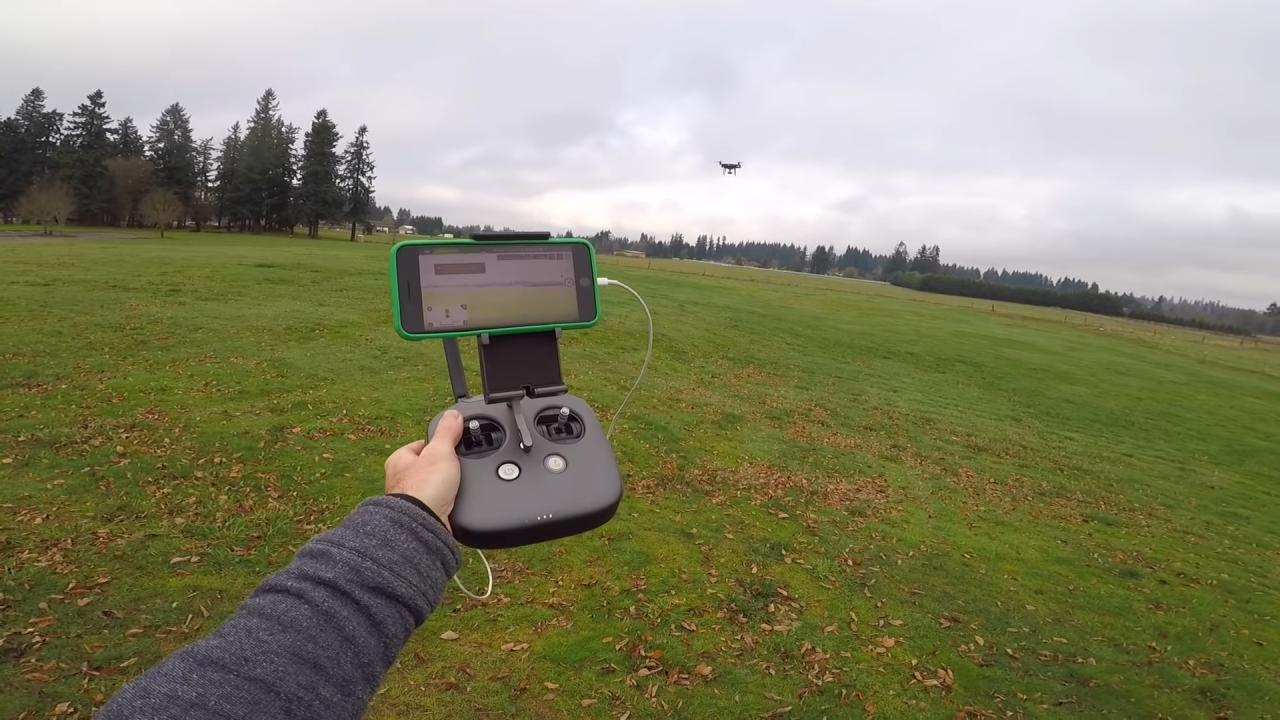Drone: (708, 153, 751, 185)
